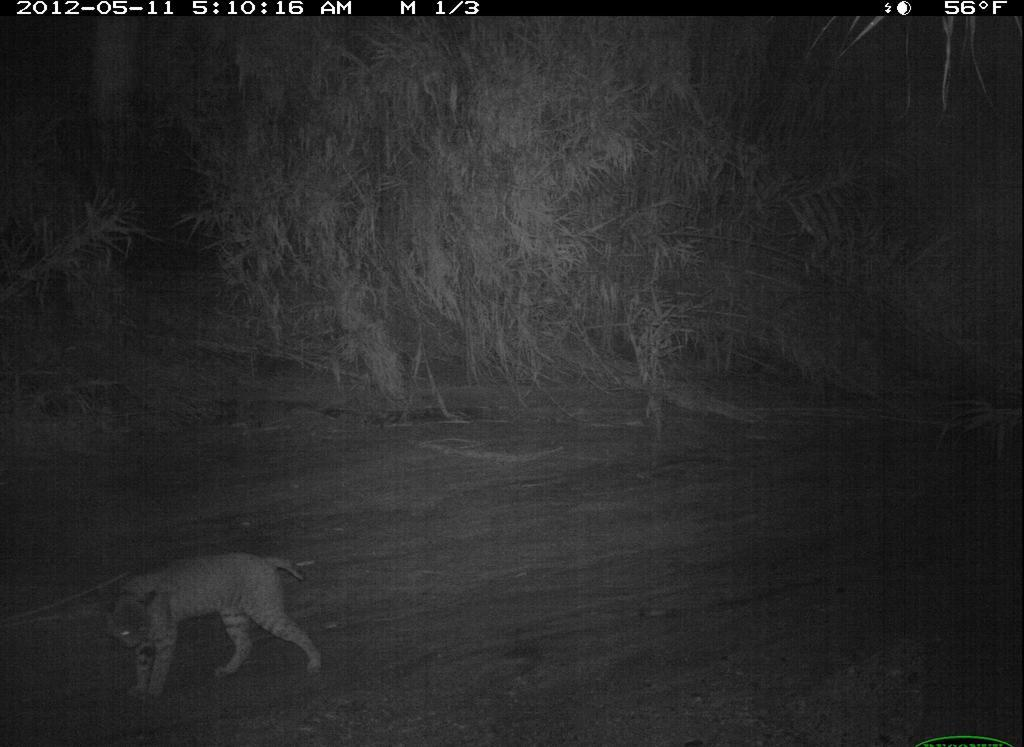bobcat: (91, 536, 340, 700)
